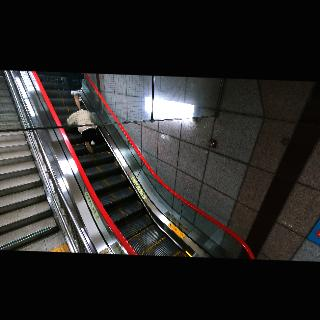anomaly: (68, 108, 100, 152)
normal: (58, 73, 86, 111)
